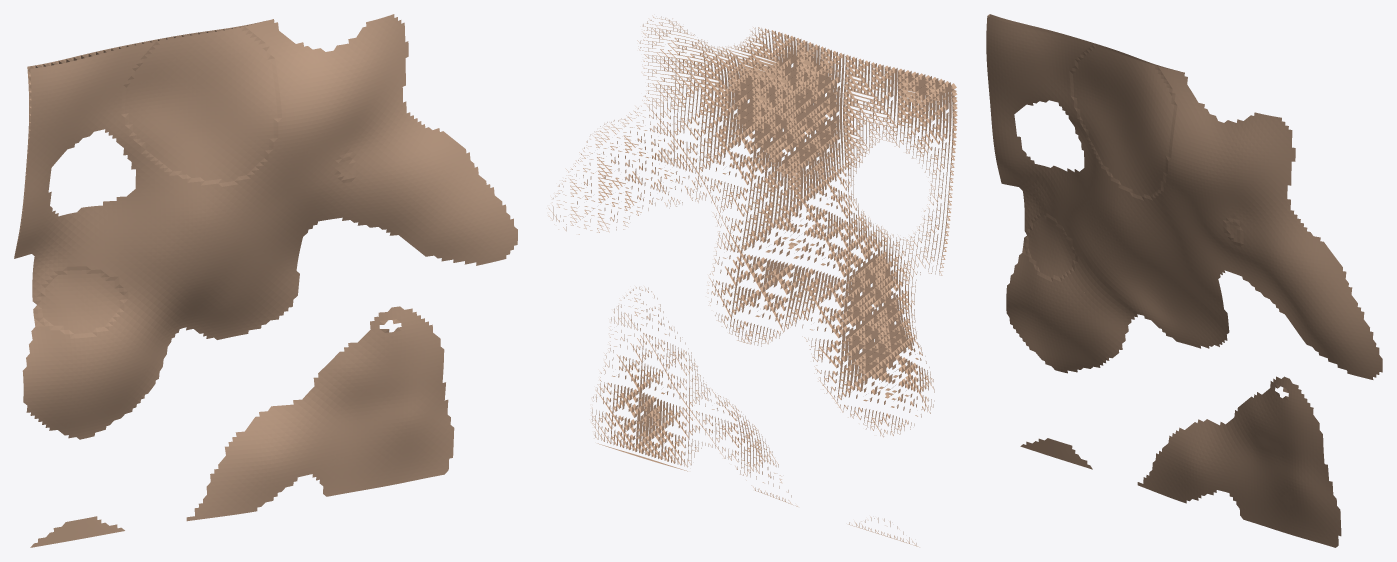
3 views of the same model, side by side, from view 1: azimuth 30°, elevation 25°; view 2: azimuth 150°, elevation 25°; view 3: azimuth 330°, elevation 25° (orthographic). The views are drawn at different scales.
Parts seen in each view (by area): view 1: world; view 2: world; view 3: world.
Part boxes in pixels (x1,y1,x2,y2): world: (14, 14, 517, 547); world: (548, 15, 957, 547); world: (986, 14, 1382, 547).
Bounding box in the file's own units: 12600 × 12800 × 2090.
